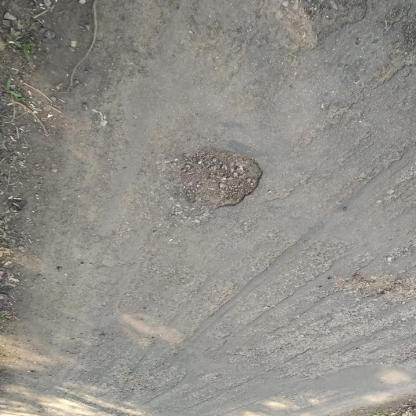pothole: (170, 150, 268, 213), (358, 276, 400, 302)
